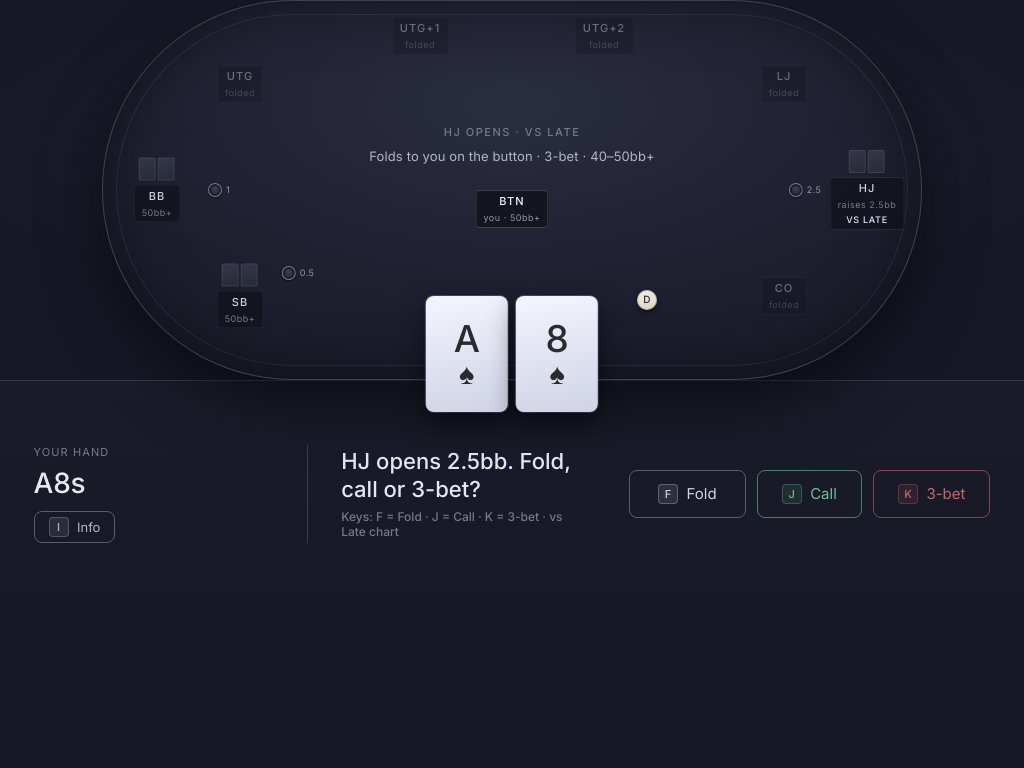
it: FacingTrainer › desktop › Fold button commits and records
What coordinates should you click on to do the following:
click the button "F Fold"
I would click on:
 (687, 494)
Its box is [629,470,746,518].
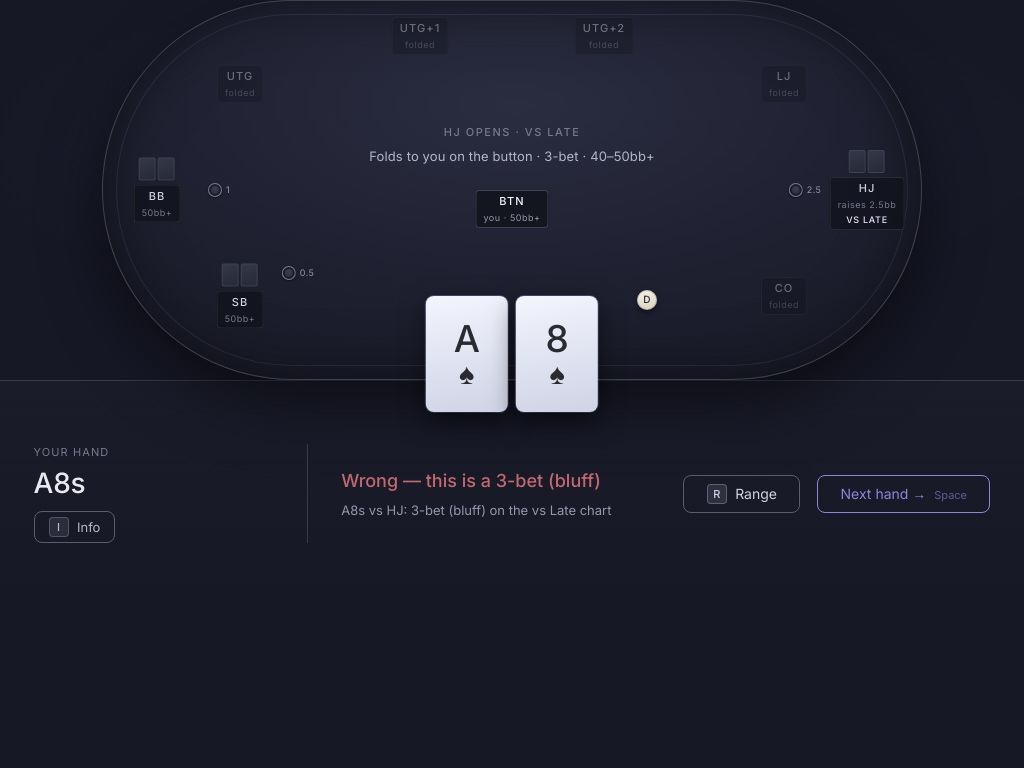
Expected: the text with test id "verdict" reads "Wrong — this is a 3-bet (bluff)", [341,470,601,491]
Expected: the button "F Fold" is gone
